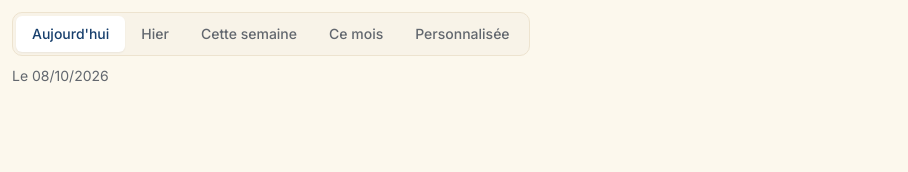
Test: PeriodFilter › offers the five presets, captions the days covered and reveals the range for a custom period
The width and height of the screenshot is (908, 172).
Check: the element named "Période" shows "Aujourd'hui", box top-left (16, 16), bottom-right (125, 52)
Check: the text "Le 08/10/2026" is shown, box top-left (12, 67), bottom-right (109, 84)
Step 1. Click the radio button labelled "Ce mois" → (356, 34), box top-left (313, 16), bottom-right (399, 52)
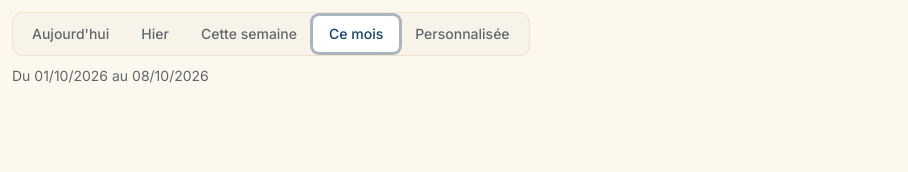
Step 2. Click the radio button labelled "Personnalisée" → (462, 34), box top-left (399, 16), bottom-right (526, 52)
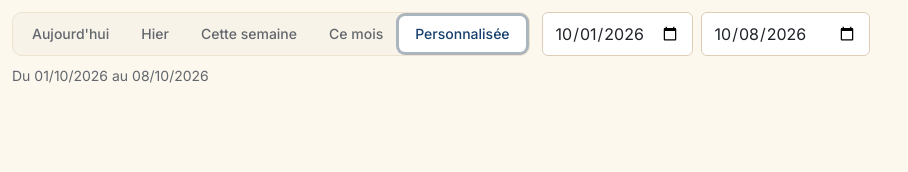
Check: the date field named "Du" is shown, box top-left (543, 13), bottom-right (692, 55)
Step 3. Clear the date field named "Au" → (785, 34), box top-left (702, 13), bottom-right (869, 55)
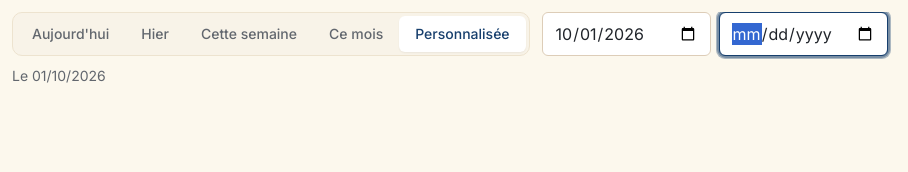
Step 4. Type "2026-09-10" into the date field named "Du" → (626, 34), box top-left (543, 13), bottom-right (710, 55)
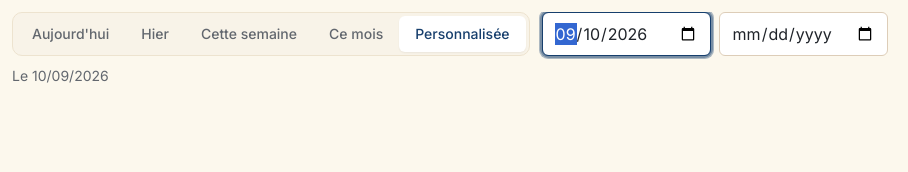
Check: the text "Le 10/09/2026" is shown, box top-left (12, 67), bottom-right (109, 84)
Step 5. Type "2026-09-12" into the date field named "Au" → (803, 34), box top-left (720, 13), bottom-right (887, 55)
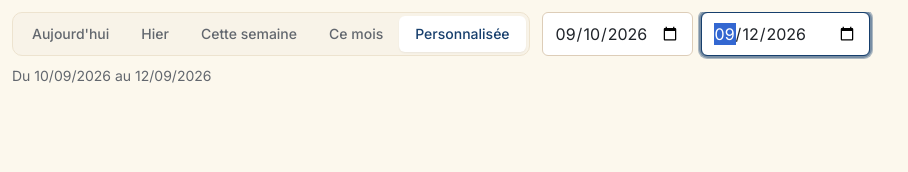
Check: the text "Du 10/09/2026 au 12/09/2026" is shown, box top-left (12, 67), bottom-right (212, 84)
